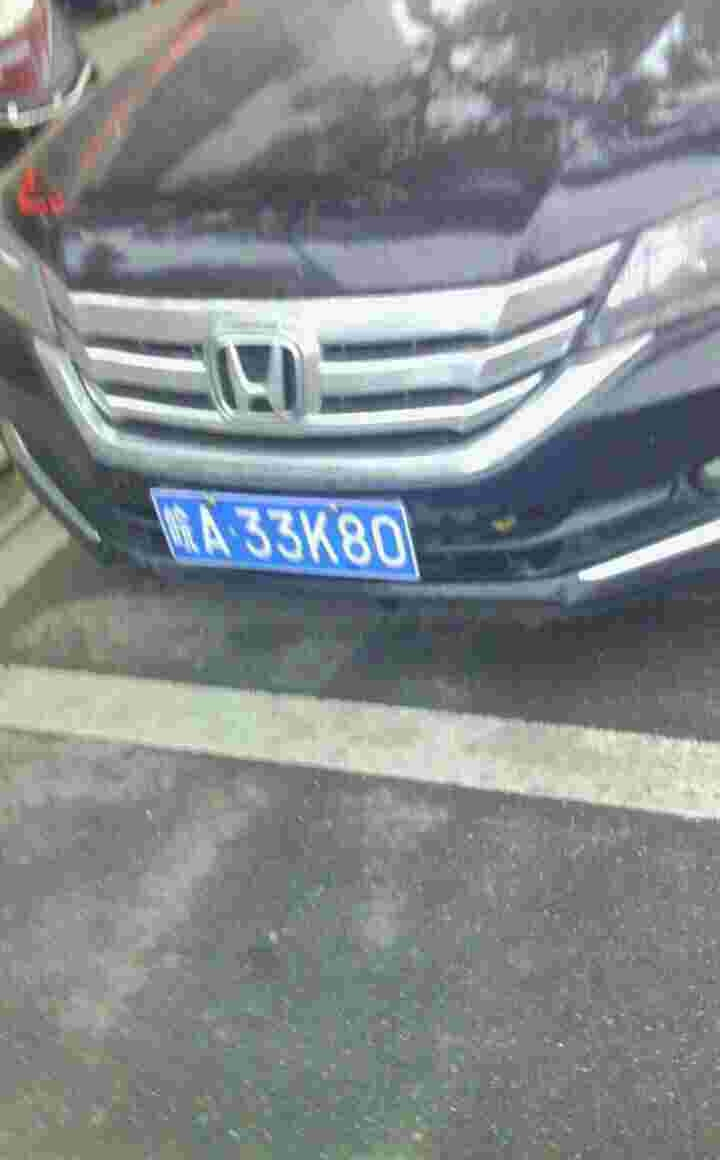license_plate: (162, 490, 405, 583)
